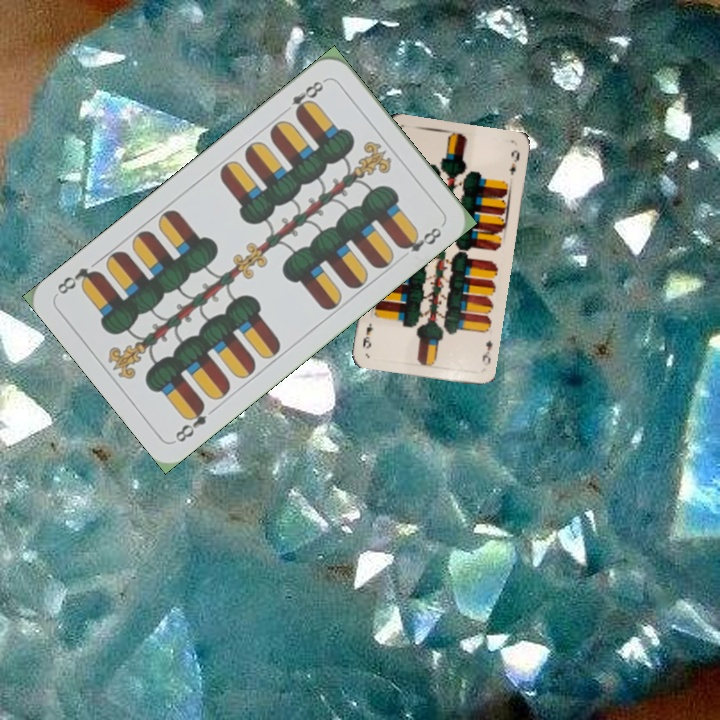E8: (279, 75, 329, 119), (171, 399, 210, 445)
E9: (478, 336, 495, 366)
